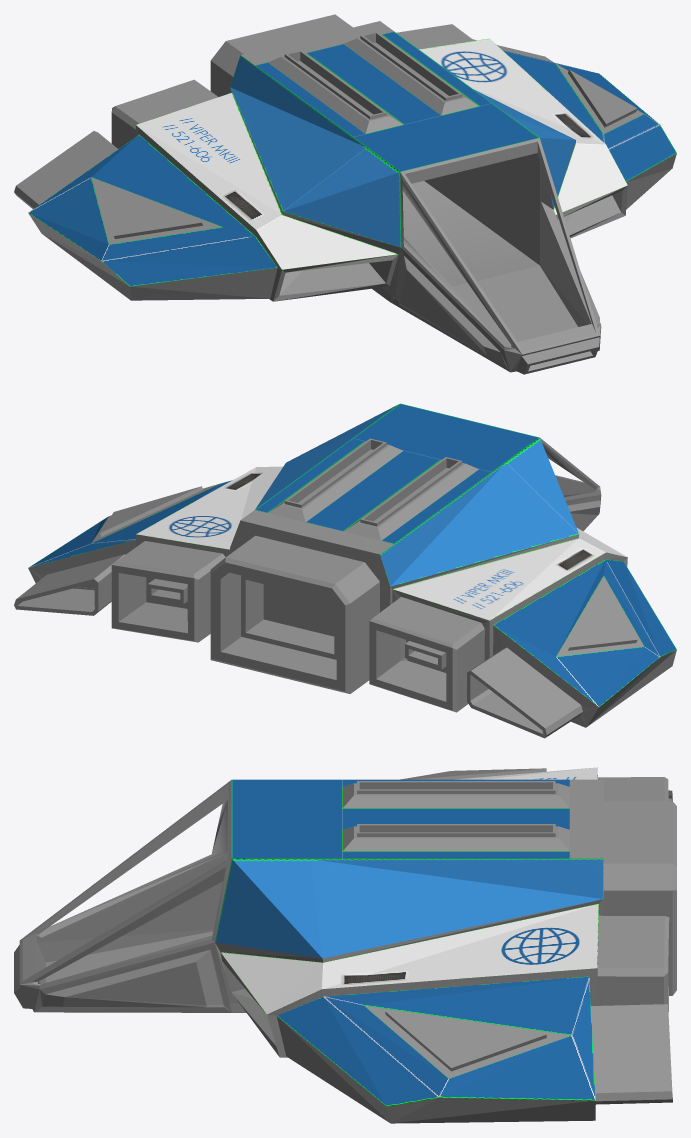
File: player_ship.FBX
3 renders of one model, top to bottom at view 1: azimuth 30°, elevation 25°; view 2: azimuth 150°, elevation 25°; view 3: azimuth 270°, elevation 25°, orthographic. The views are drawn at different scales.
Parts seen in each view (by area): view 1: Box001; view 2: Box001; view 3: Box001.
Part boxes in pixels (x1,y1,x2,y2): Box001: (14,14,676,374); Box001: (14,403,676,738); Box001: (14,767,676,1123).
Size of the model in its own units: 97.79 by 25.56 by 84.53.
Materials: 2 (1 with a texture image).
